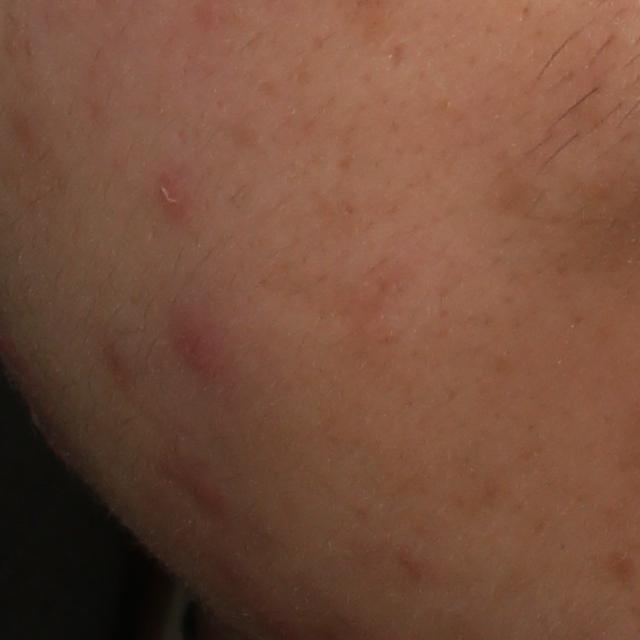atrophic_scar: (385, 33, 409, 77)
papule: (174, 322, 246, 378), (156, 170, 186, 211), (192, 474, 228, 506)
